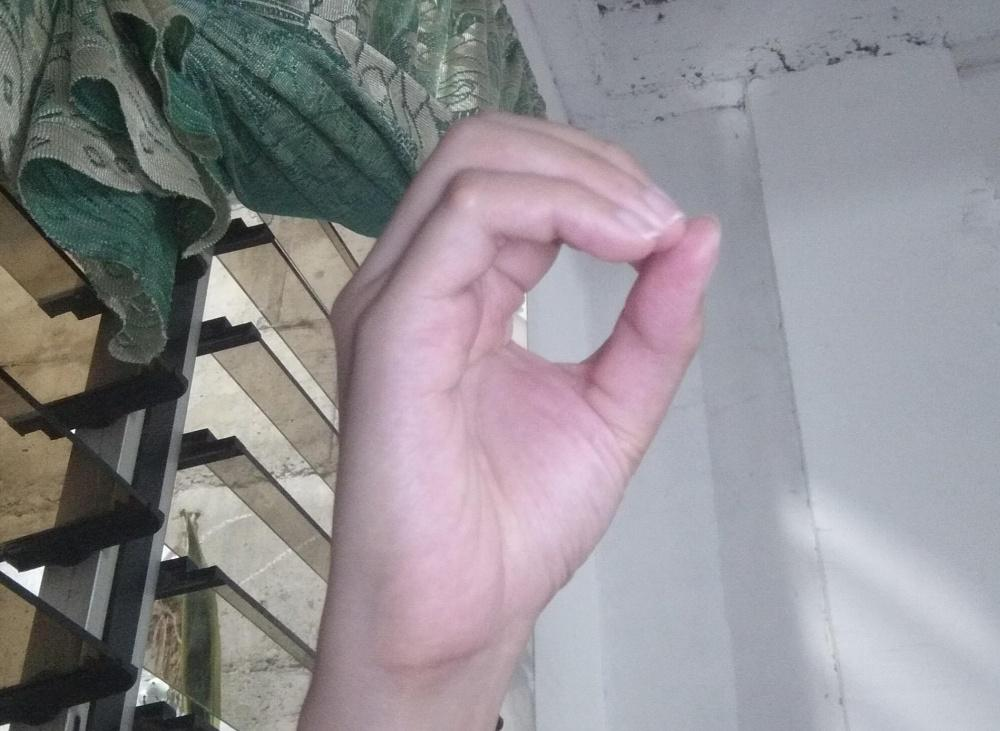o: (327, 107, 725, 664)
